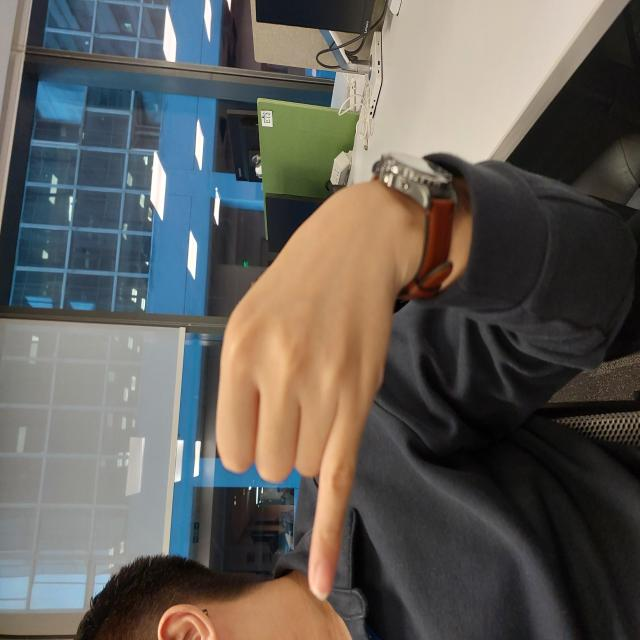J: (42, 216, 416, 394)
